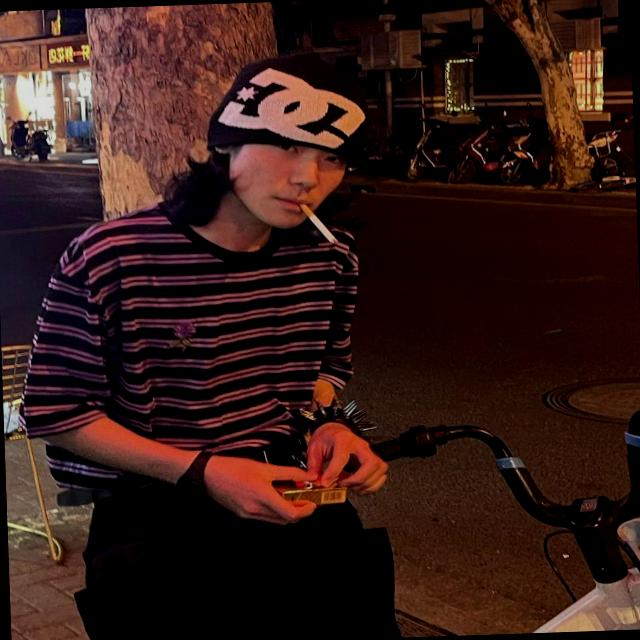cigarette: (284, 200, 340, 248)
